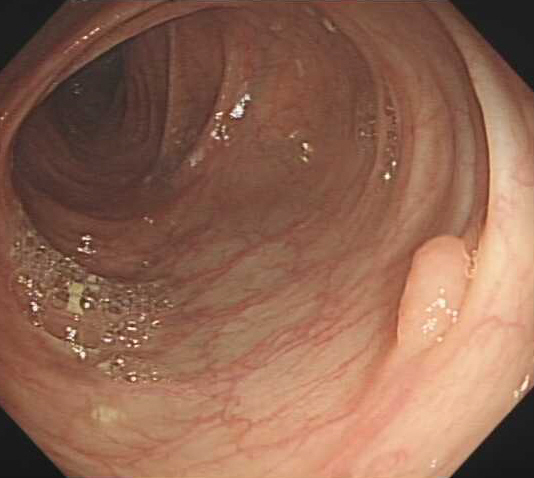adenoma: (393, 231, 474, 360)
